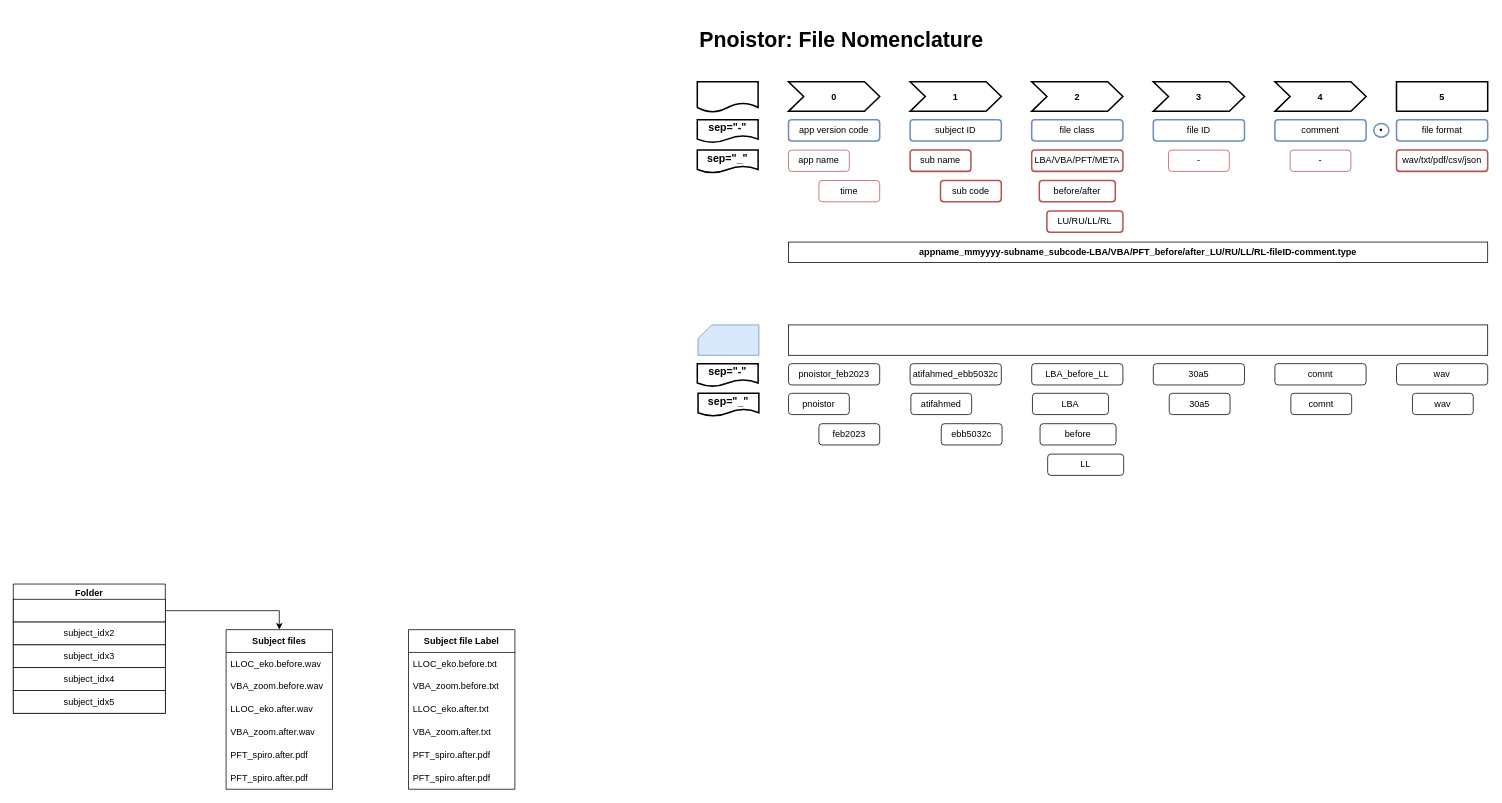
Some shapes in this 1502 by 803 pixel diagram are drawn without their labels. The centre of each missing label's shape, as x and y in pixels:
"Ex." belongs at pixel 728 339.
"index" belongs at pixel 727 96.
"pnoistor_feb2023-atifahmed_ebb5032c-LBA_before_LL-30a5-comnt.wav" belongs at pixel 1138 339.
"subject_idx1" belongs at pixel 89 610.
